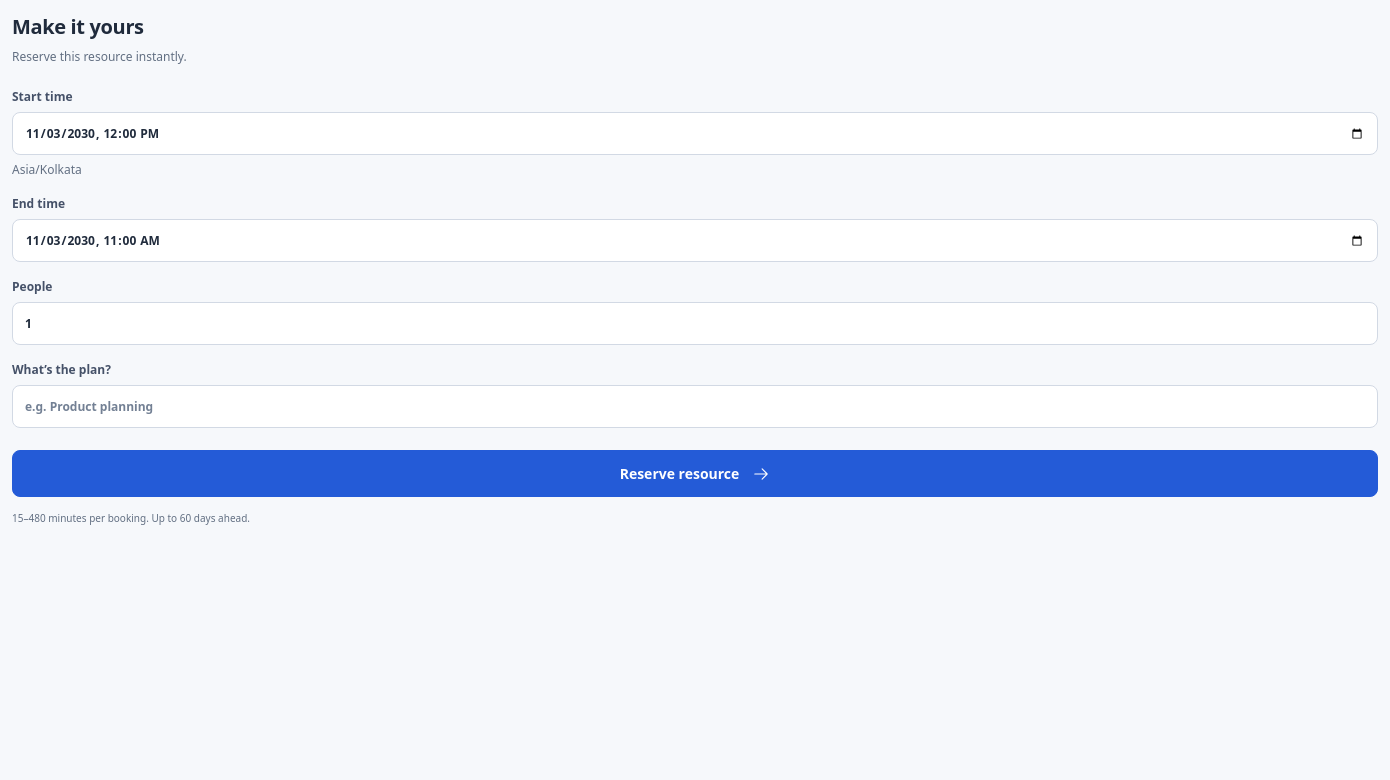
Test: ReserveOps user workflows › rejects reversed form intervals before sending a booking request
Type "Planning" into the field labelled "What’s the plan?" at (695, 406), box x1=12 y1=385 x2=1378 y2=428
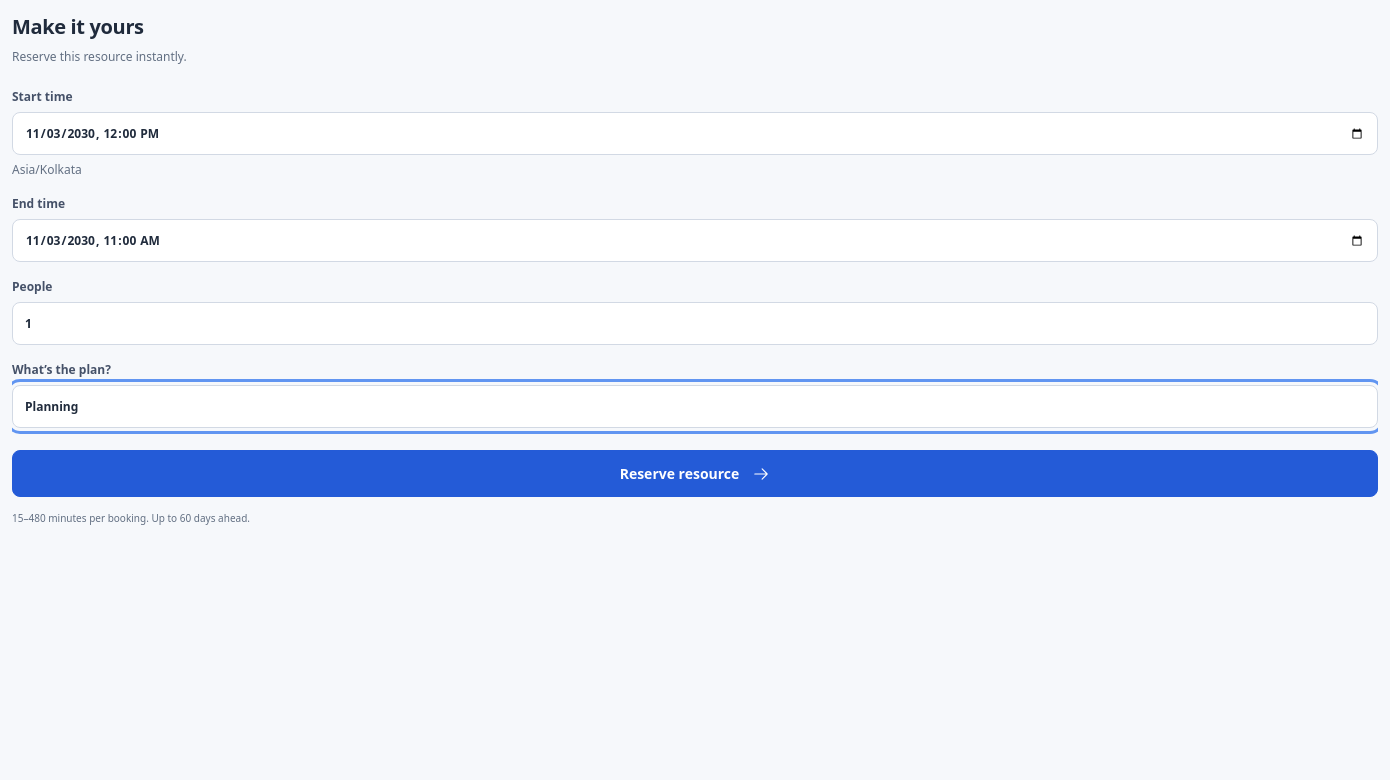
Click the button "Reserve resource" at (695, 474), box x1=12 y1=450 x2=1378 y2=497
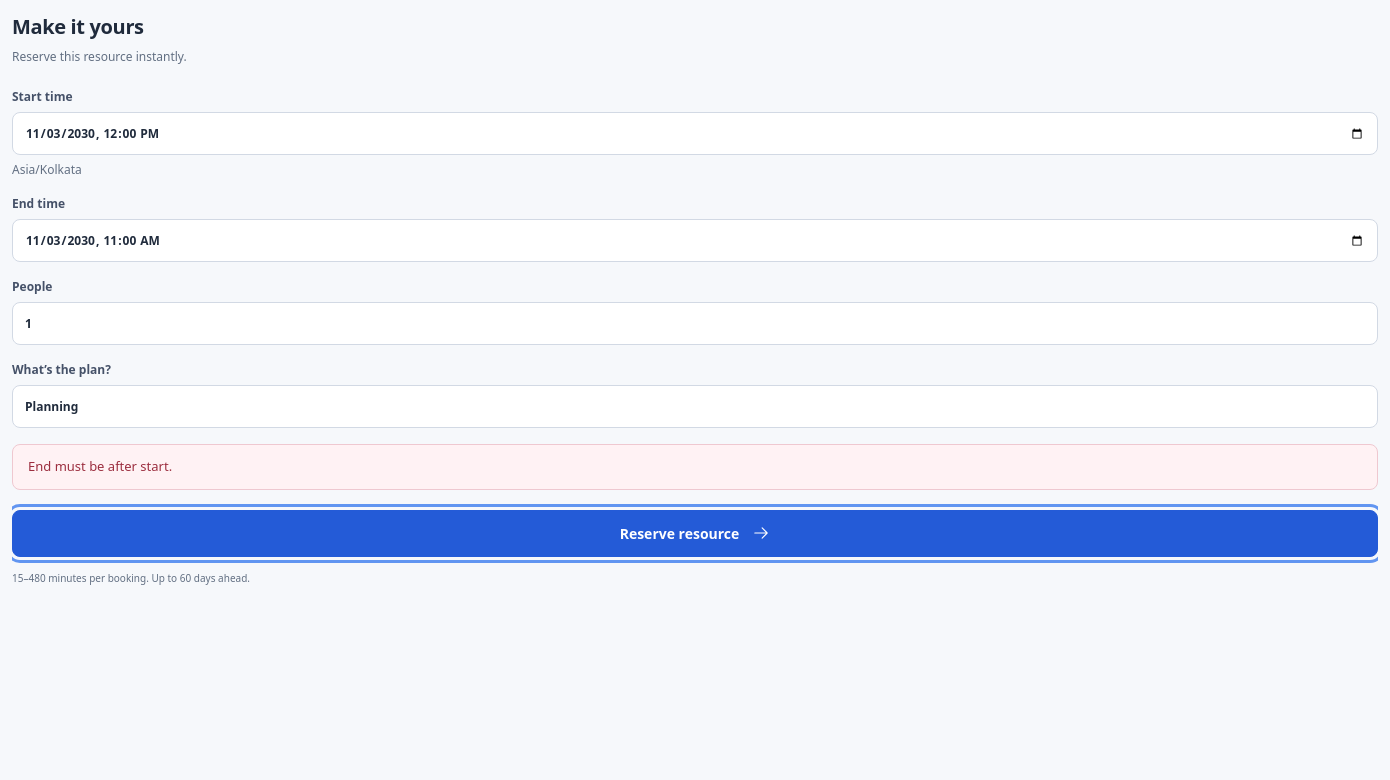
Expected: the message reads "End must be after start.", x1=28 y1=457 x2=172 y2=475
